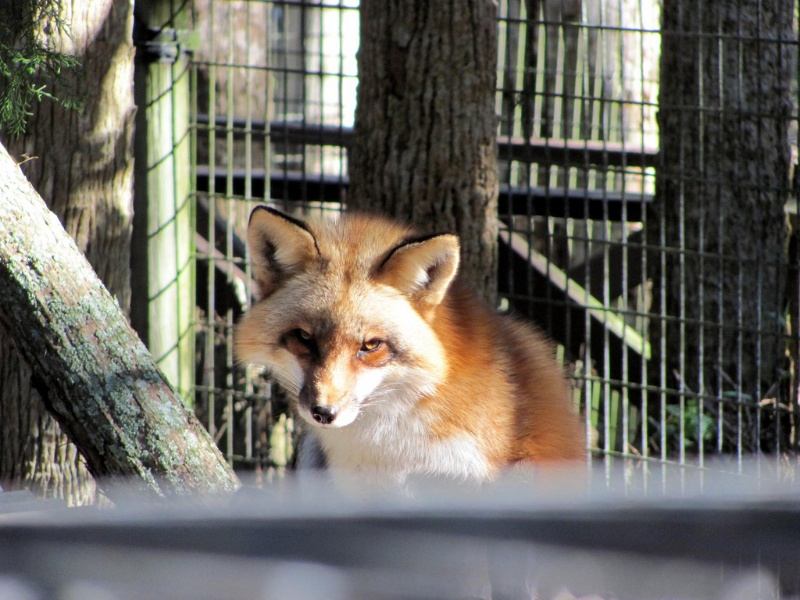fox: (229, 195, 595, 500)
